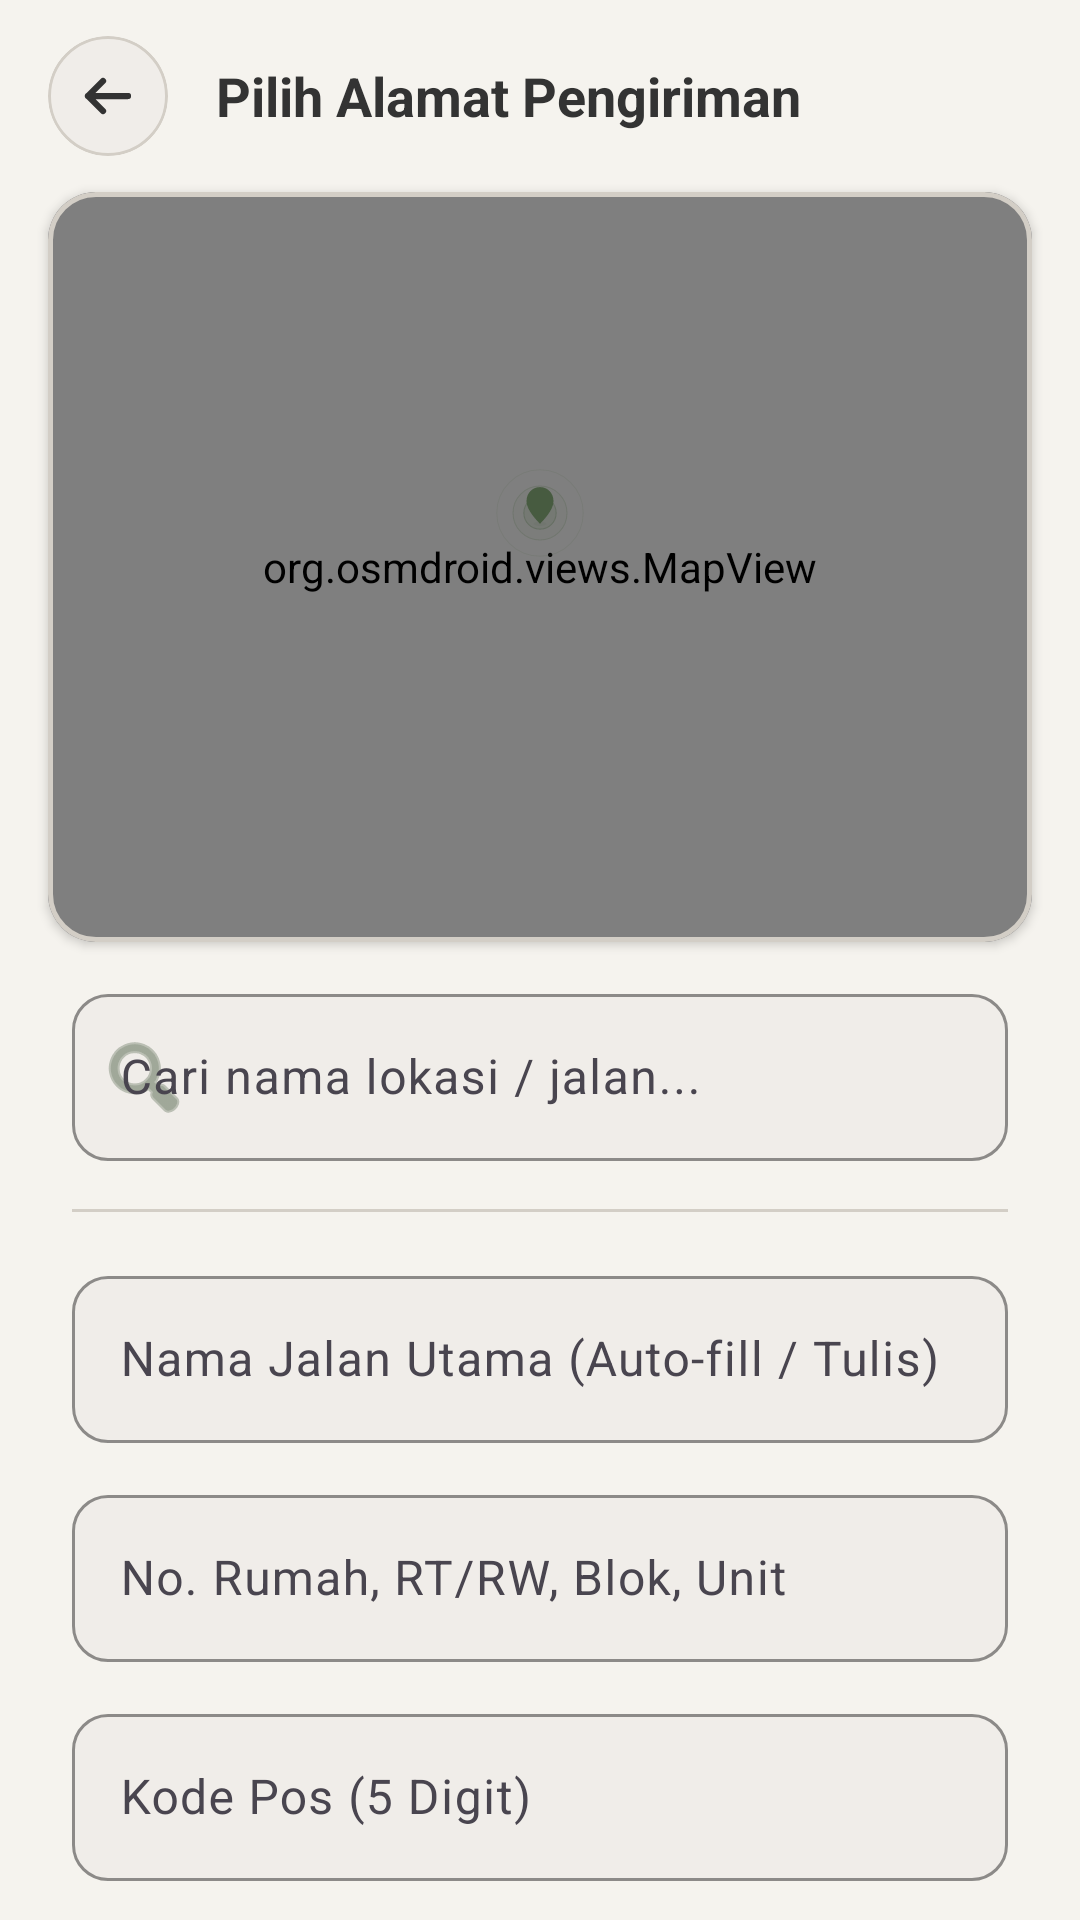

Named icons in this screenshot (1080×1920) and their centers, (x,y):
back arrow: (107,96)
